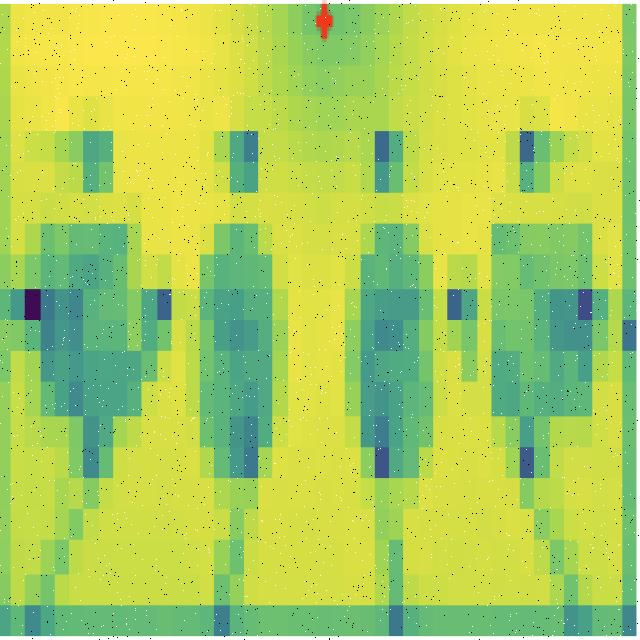Concrete: (491, 223, 595, 418)
Glass: (352, 218, 436, 480)
Metal: (40, 222, 143, 418)
Wood: (198, 222, 277, 482)
